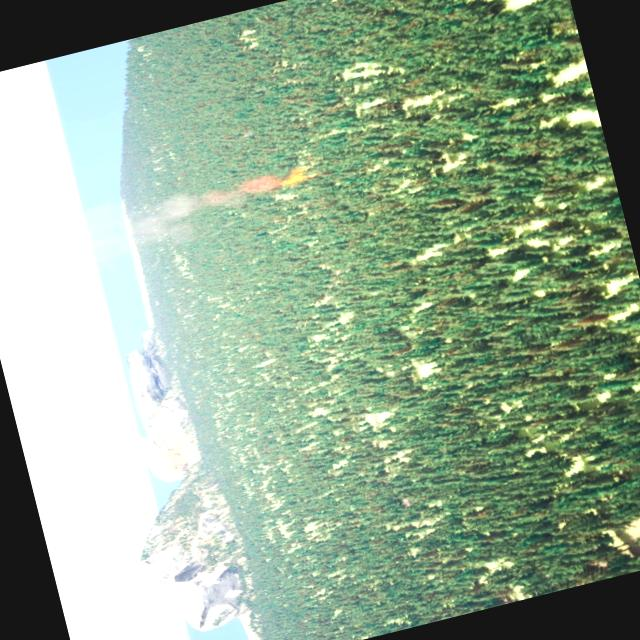fire: (274, 164, 311, 187)
smoke: (118, 169, 279, 251)
